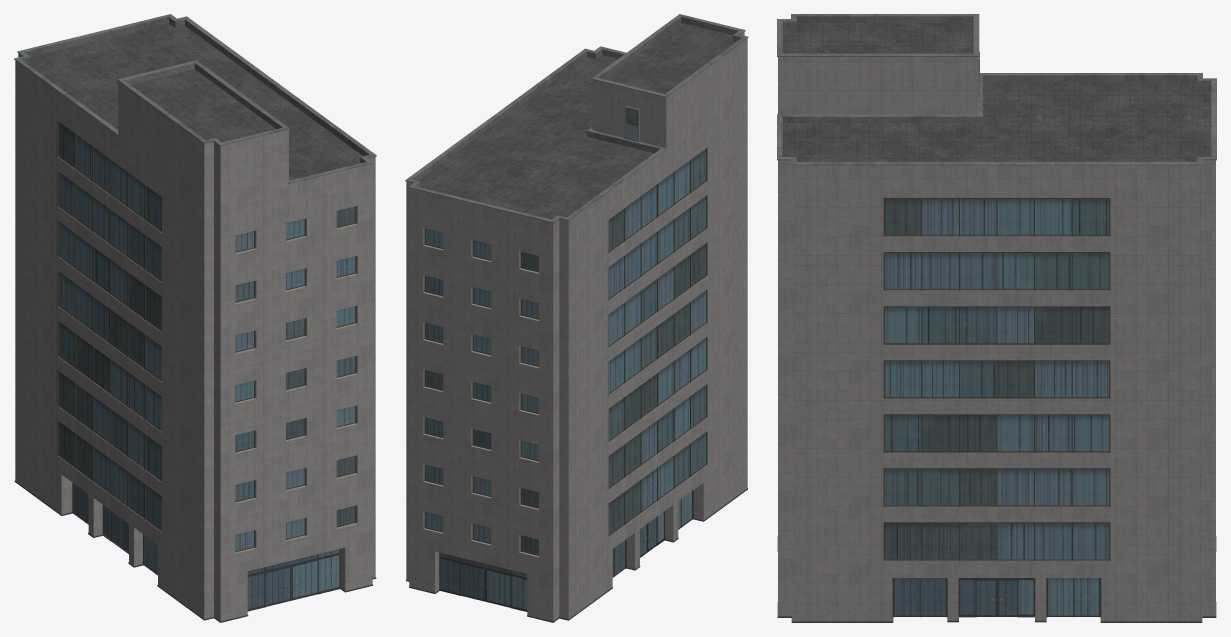
The model's file is jctBld24_12C.fbx.
3 renders of one model, left to right at view 1: azimuth 30°, elevation 25°; view 2: azimuth 150°, elevation 25°; view 3: azimuth 270°, elevation 25°, orthographic. The views are drawn at different scales.
Parts seen in each view (by area): view 1: jctBld24_12C_LOD0; view 2: jctBld24_12C_LOD0; view 3: jctBld24_12C_LOD0.
Boxes of the visible parts, x1=… form: jctBld24_12C_LOD0: x1=14, y1=14, x2=376, y2=622; jctBld24_12C_LOD0: x1=405, y1=14, x2=748, y2=622; jctBld24_12C_LOD0: x1=777, y1=14, x2=1216, y2=622.
Bounding box in the file's own units: 1160 × 3065 × 2360.
